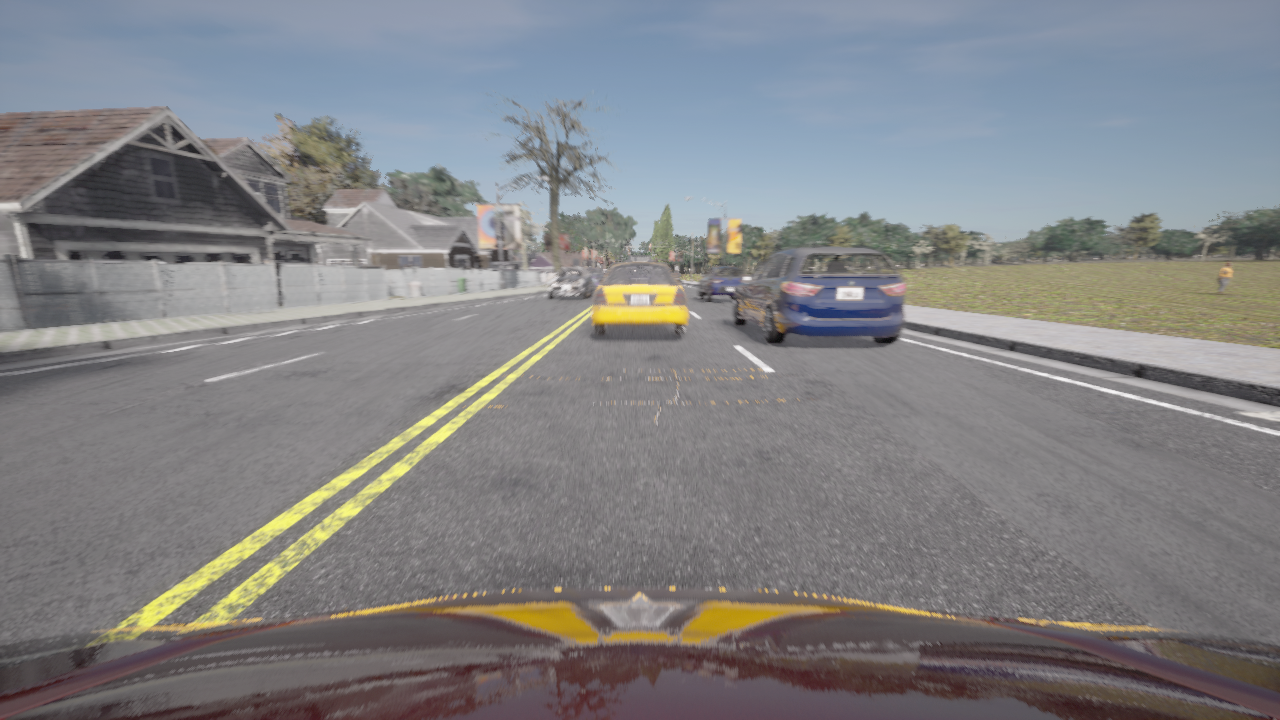cyclist: (0, 588, 1279, 719), (732, 247, 905, 344), (592, 256, 687, 334), (576, 268, 604, 290), (676, 276, 679, 278)
pedestrian: (1217, 262, 1232, 293)
